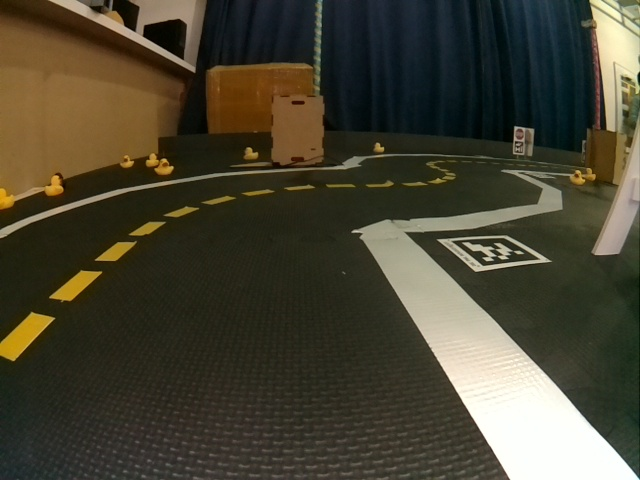Duckie: (45, 176, 63, 196), (155, 159, 174, 175), (0, 189, 14, 209), (570, 170, 585, 185), (244, 147, 258, 160), (146, 153, 159, 167), (120, 156, 133, 167), (585, 168, 596, 181), (373, 143, 384, 152)
QR code: (437, 235, 551, 272), (513, 141, 524, 153)
Stop sign: (514, 127, 525, 140)
